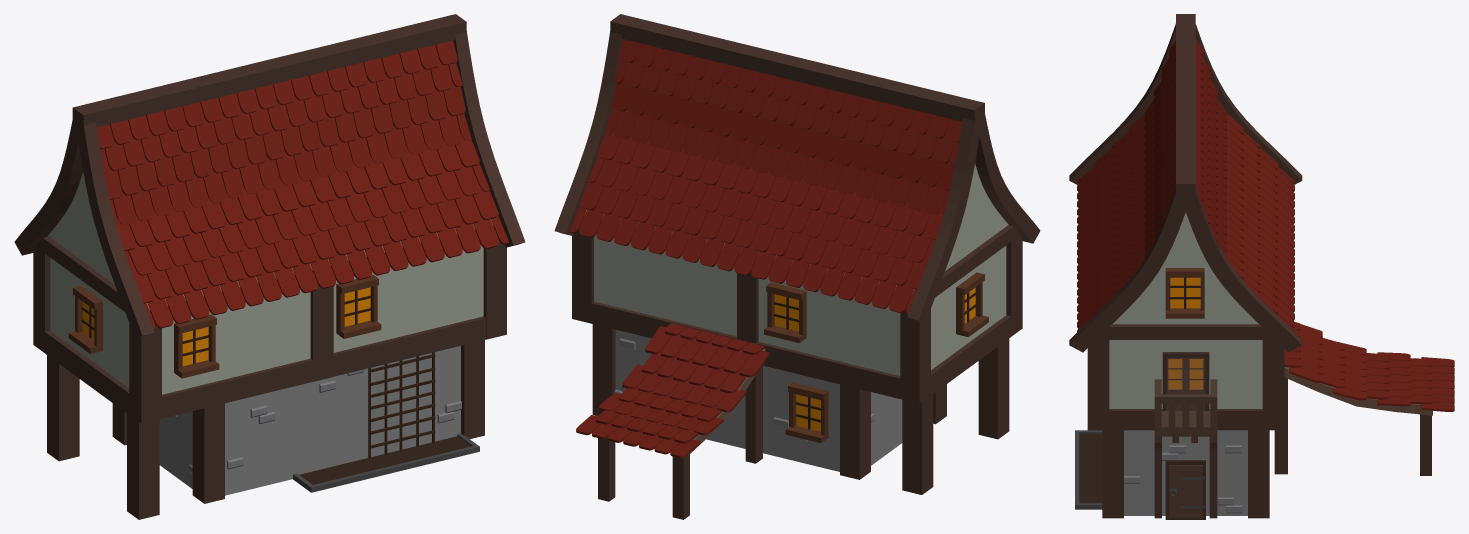
File: Lowpolybuilding.fbx
3 renders of one model, left to right at view 1: azimuth 30°, elevation 25°; view 2: azimuth 150°, elevation 25°; view 3: azimuth 270°, elevation 25°, orthographic. The views are drawn at different scales.
Visible parts, largest first — view 1: Tiles, Cube.017, Cube, Lower house, Vineladder, Cube.001, Stone, Window frame.001, Window frame, Window frame.004, Cube.013, Glass (+1 smaller); view 2: Tiles, Cube.017, Cube, Lower house, Window frame.005, Window frame.003, Window frame.004, Glass.003, Glass.005; view 3: Tiles, Cube.017, Cube, Lower house, Cube.004, Cube.003, Cube.001, Cube.007, Window frame.002, Cube.012, Cube.013, Glass.002 (+4 smaller).
Boxes of the visible parts, box(x1,y1,x2,y2) form: Tiles: box(96, 40, 508, 329); Cube.017: box(14, 14, 525, 519); Cube: box(48, 171, 493, 394); Lower house: box(159, 346, 460, 495); Vineladder: box(368, 352, 435, 458); Cube.001: box(299, 436, 470, 484); Stone: box(293, 433, 479, 492); Window frame.001: box(336, 275, 381, 338); Window frame: box(174, 314, 219, 378); Window frame.004: box(68, 285, 102, 353); Cube.013: box(175, 369, 461, 473); Glass: box(182, 327, 208, 366); Tiles: box(569, 39, 962, 458); Cube.017: box(554, 14, 1040, 519); Cube: box(585, 163, 1008, 375); Lower house: box(615, 330, 902, 471); Window frame.005: box(785, 382, 828, 443); Window frame.003: box(764, 282, 806, 343); Window frame.004: box(956, 272, 988, 337); Glass.003: box(774, 294, 798, 331); Glass.005: box(796, 394, 820, 431); Tiles: box(1077, 39, 1454, 411); Cube.017: box(1069, 14, 1431, 518); Cube: box(1109, 212, 1262, 408); Lower house: box(1124, 430, 1247, 515); Cube.004: box(1154, 379, 1217, 436); Cube.003: box(1169, 465, 1202, 517); Cube.001: box(1079, 434, 1102, 503); Cube.007: box(1284, 367, 1432, 415); Window frame.002: box(1165, 268, 1204, 318); Cube.012: box(1168, 359, 1203, 389); Cube.013: box(1124, 445, 1242, 513); Glass.002: box(1170, 277, 1200, 308).
Bounding box in the file's own units: 831 × 737 × 742.
